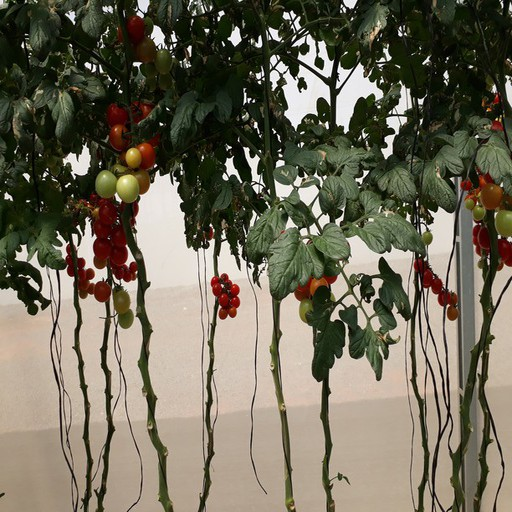mixed tomato bunch: (119, 15, 188, 100), (463, 178, 512, 238)
red tomato bunch: (463, 93, 512, 188), (289, 240, 337, 326), (93, 192, 136, 287), (107, 93, 157, 163), (413, 258, 459, 321), (471, 222, 511, 279), (61, 243, 95, 298), (210, 273, 242, 320)
